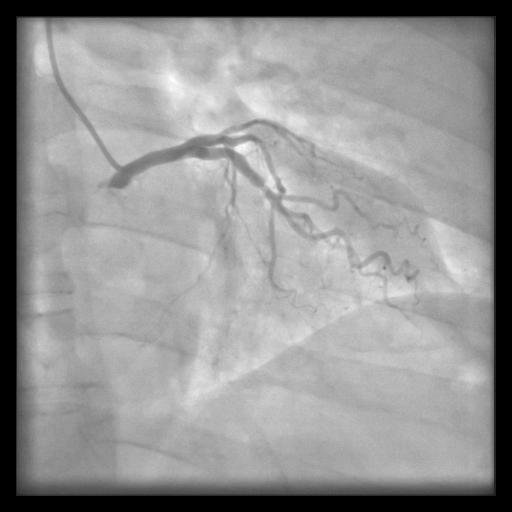Stenosis: (261, 177, 268, 195)
